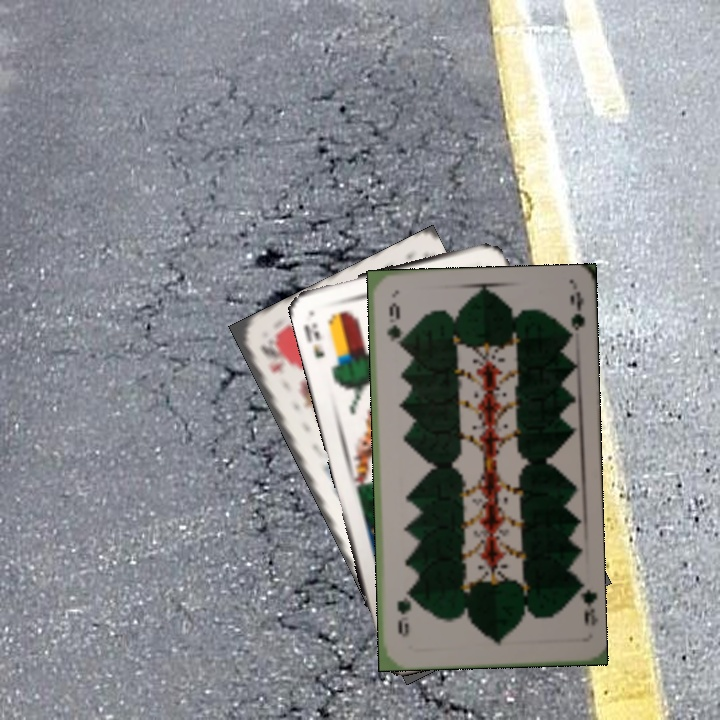EK: (300, 319, 327, 361)
G9: (570, 579, 598, 628), (383, 299, 403, 350)
HK: (256, 340, 283, 376)
